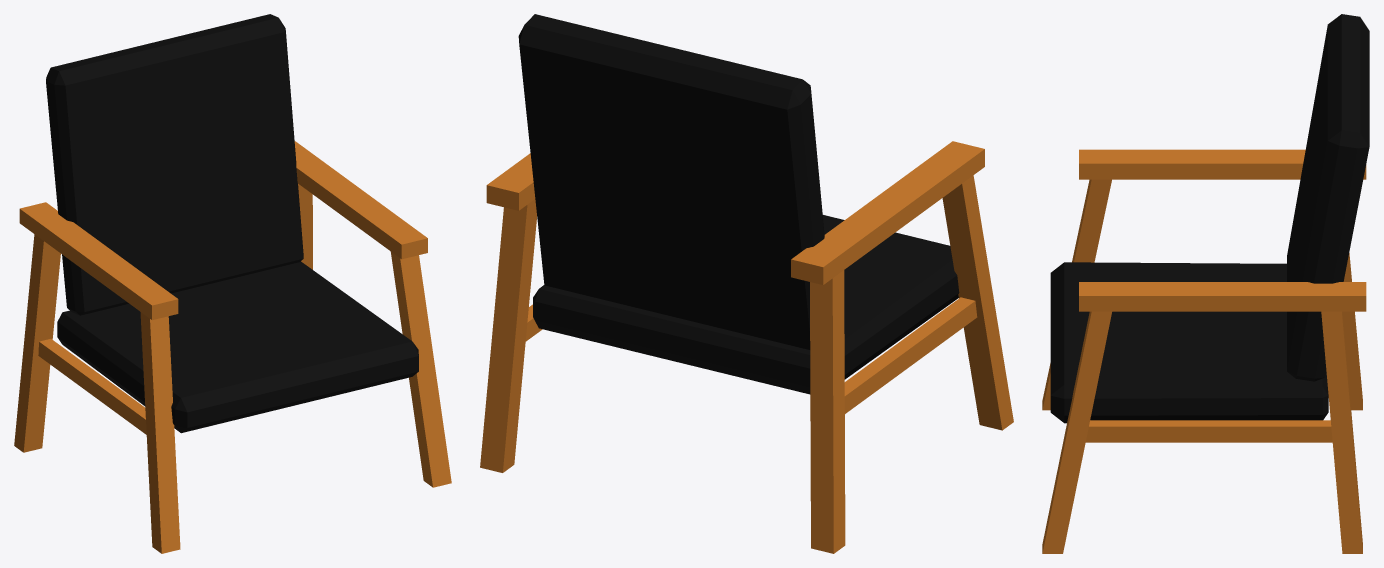
The model's file is Kursi Santuyyyy.fbx.
3 views of the same model, side by side, from view 1: azimuth 30°, elevation 25°; view 2: azimuth 150°, elevation 25°; view 3: azimuth 270°, elevation 25° (orthographic). The views are drawn at different scales.
Parts seen in each view (by area): view 1: Plane.053; view 2: Plane.053; view 3: Plane.053.
Part boxes in pixels (x1,y1,x2,y2): Plane.053: [14, 14, 451, 553]; Plane.053: [480, 14, 1013, 553]; Plane.053: [1042, 14, 1369, 553].
Bounding box in the file's own units: 765 × 940 × 688.
